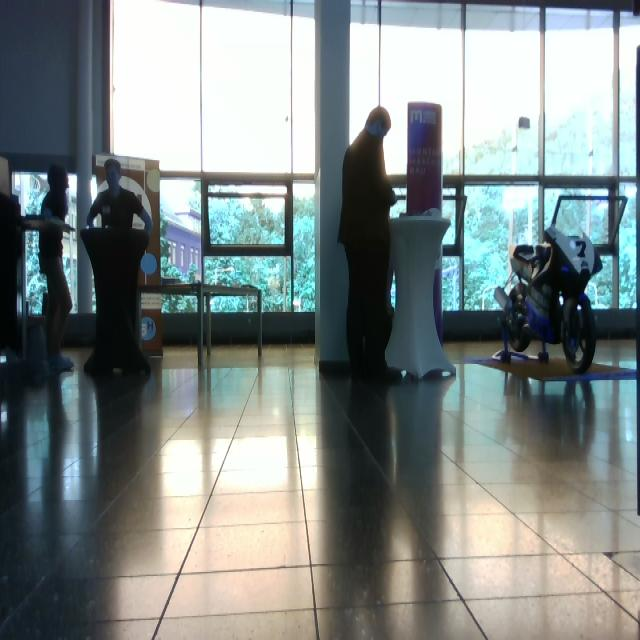light bulb: (365, 106, 392, 137), (141, 252, 158, 276), (519, 117, 530, 130)
motorcycle: (492, 194, 628, 376)
person: (337, 106, 404, 384), (84, 158, 153, 377), (34, 164, 76, 373)
table: (384, 212, 459, 385), (200, 281, 266, 366)
tiled floor: (2, 339, 638, 639)
